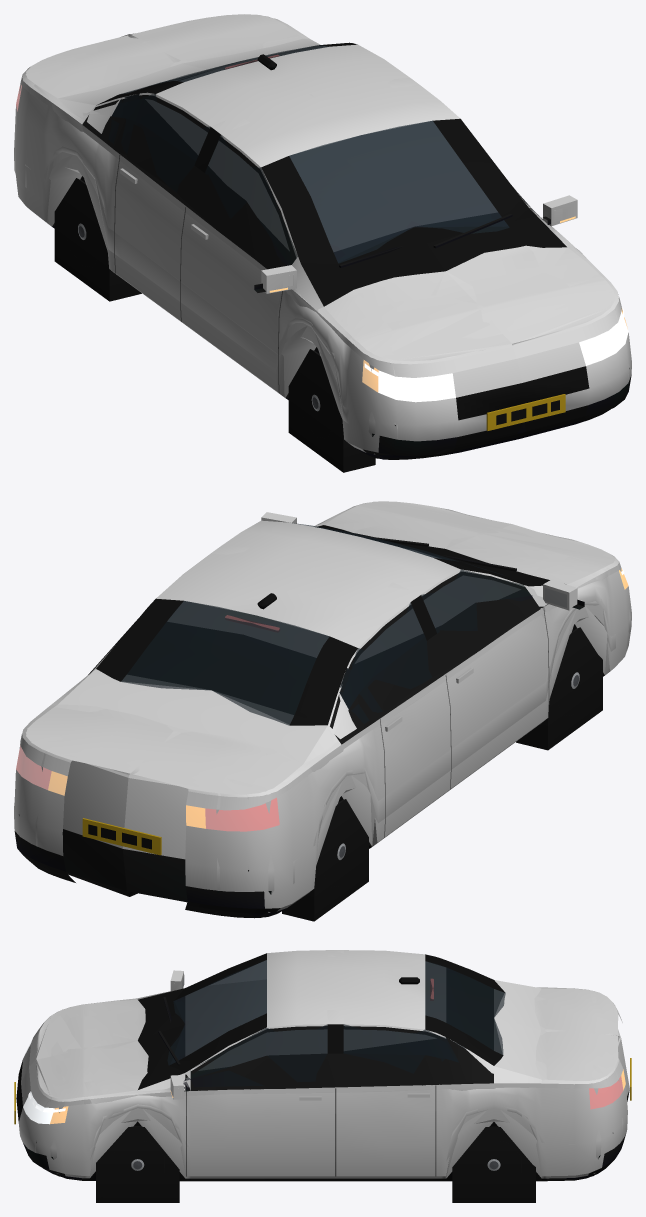
Rendered from sedan.glb.
3 renders of one model, top to bottom at view 1: azimuth 30°, elevation 25°; view 2: azimuth 150°, elevation 25°; view 3: azimuth 270°, elevation 25°, orthographic. The views are drawn at different scales.
Parts seen in each view (by area): view 1: body (×3); view 2: body (×3); view 3: body (×3).
Boxes of the visible parts, left/top/right/bottom form: body (×3): left=14, top=14, right=631, bottom=472; body (×3): left=14, top=501, right=631, bottom=921; body (×3): left=14, top=950, right=631, bottom=1202.
Bounding box in the file's own units: 2.13 × 1.48 × 4.68.
